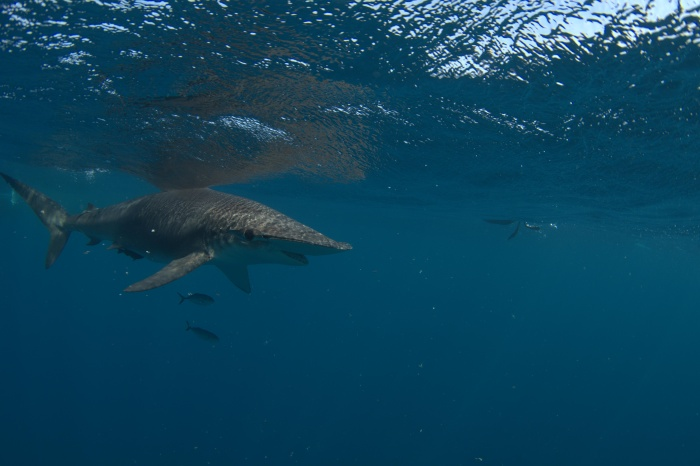Hammer: (5, 149, 371, 320)
